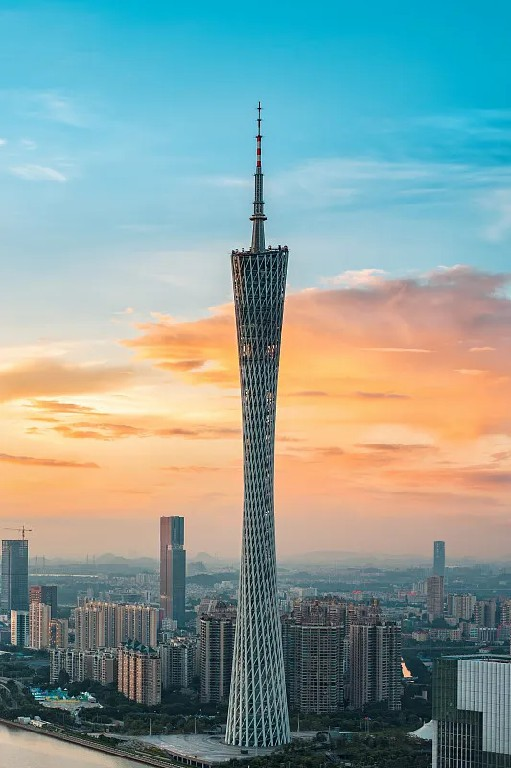Canton: (226, 101, 293, 749)
